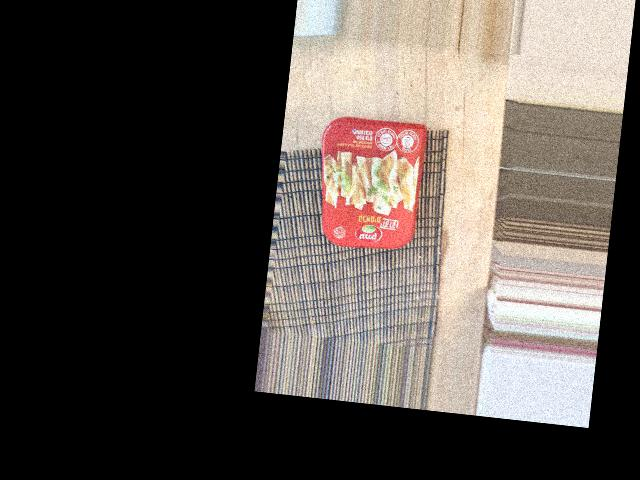cheese: (290, 198, 414, 306)
